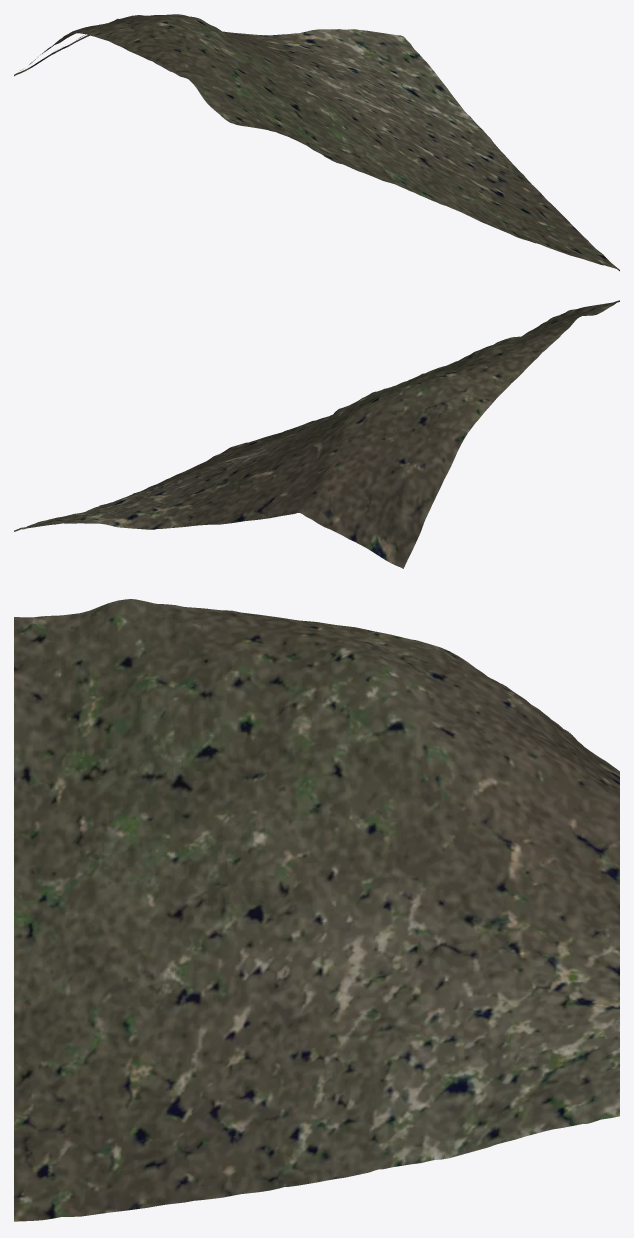
3 renders of one model, top to bottom at view 1: azimuth 30°, elevation 25°; view 2: azimuth 150°, elevation 25°; view 3: azimuth 270°, elevation 25°, orthographic. The views are drawn at different scales.
Size of the model in its own units: 250 by 157 by 241.
Materials: 1 (1 with a texture image).
